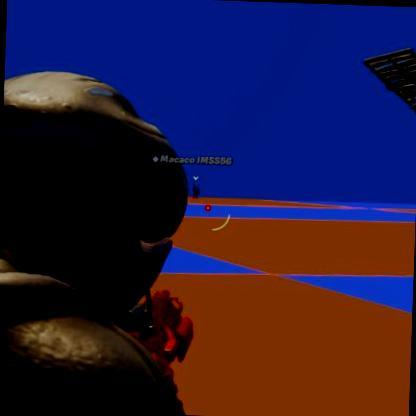person: (193, 186, 200, 198)
